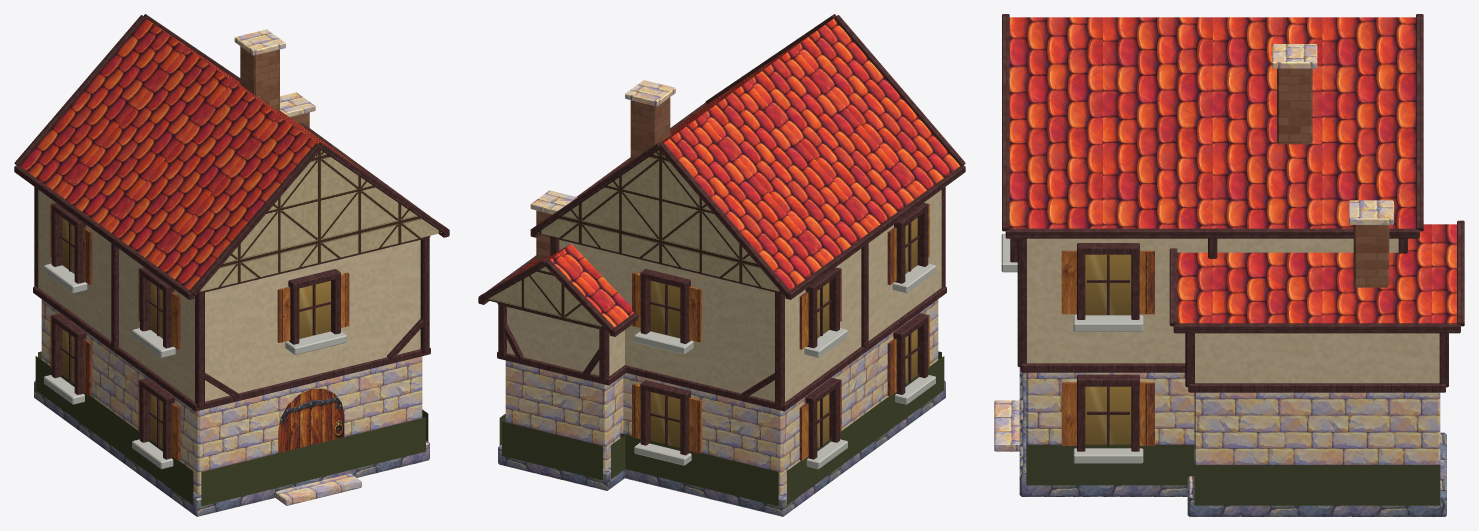
The model's file is Fantasy_House.fbx.
3 views of the same model, side by side, from view 1: azimuth 30°, elevation 25°; view 2: azimuth 150°, elevation 25°; view 3: azimuth 270°, elevation 25° (orthographic). The views are drawn at different scales.
Parts seen in each view (by area): view 1: Main roof, Upper wall panels, Ground floor, Weathered wall foot, Weathered wall foot.002, Stone footing, Structural sill, Entrance door, Chimney, Eaves fascia, Gable bargeboard, Glass pane.004 (+31 smaller); view 2: Main roof, Upper wall panels, Ground floor, Ground floor.001, Main roof.001, Weathered wall foot.003, Upper wall panels.001, Weathered wall foot.002, Weathered wall foot.007, Stone footing, Structural sill, Chimney (+36 smaller); view 3: Main roof, Main roof.001, Ground floor.001, Upper wall panels, Upper wall panels.001, Weathered wall foot.005, Weathered wall foot.001, Ground floor, Eaves fascia.001, Stone footing.001, Eaves fascia.003, Stone footing (+26 smaller).
Boxes of the visible parts, box(x1,y1,x2,y2) form: Main roof: box(20, 18, 441, 291); Upper wall panels: box(38, 190, 420, 401); Ground floor: box(41, 299, 422, 495); Weathered wall foot: box(201, 417, 425, 506); Weathered wall foot.002: box(35, 356, 193, 504); Stone footing: box(34, 380, 429, 516); Structural sill: box(33, 286, 430, 411); Entrance door: box(278, 388, 344, 452); Chimney: box(240, 46, 279, 111); Eaves fascia: box(14, 165, 194, 299); Gable bargeboard: box(189, 143, 321, 295); Glass pane.004: box(299, 281, 330, 338); Main roof: box(538, 18, 959, 291); Upper wall panels: box(559, 190, 941, 401); Ground floor: box(623, 299, 938, 495); Ground floor.001: box(505, 360, 623, 469); Main roof.001: box(486, 244, 633, 328); Weathered wall foot.003: box(620, 433, 778, 506); Upper wall panels.001: box(507, 307, 624, 375); Weathered wall foot.002: box(787, 356, 944, 504); Weathered wall foot.007: box(502, 421, 602, 480); Stone footing: box(625, 380, 945, 516); Structural sill: box(624, 286, 946, 411); Chimney: box(630, 97, 670, 160); Main roof: box(1009, 17, 1415, 228); Main roof.001: box(1177, 224, 1456, 323); Ground floor.001: box(1194, 392, 1440, 464); Upper wall panels: box(1027, 238, 1398, 363); Upper wall panels.001: box(1195, 333, 1439, 383); Weathered wall foot.005: box(1194, 465, 1440, 505); Weathered wall foot.001: box(1026, 444, 1194, 485); Ground floor: box(1026, 372, 1194, 444); Eaves fascia.001: box(1005, 228, 1419, 238); Stone footing.001: box(1187, 432, 1446, 516); Eaves fascia.003: box(1173, 323, 1460, 333); Stone footing: box(1019, 367, 1187, 496).
Size of the model in its own units: 738 by 834 by 858.
